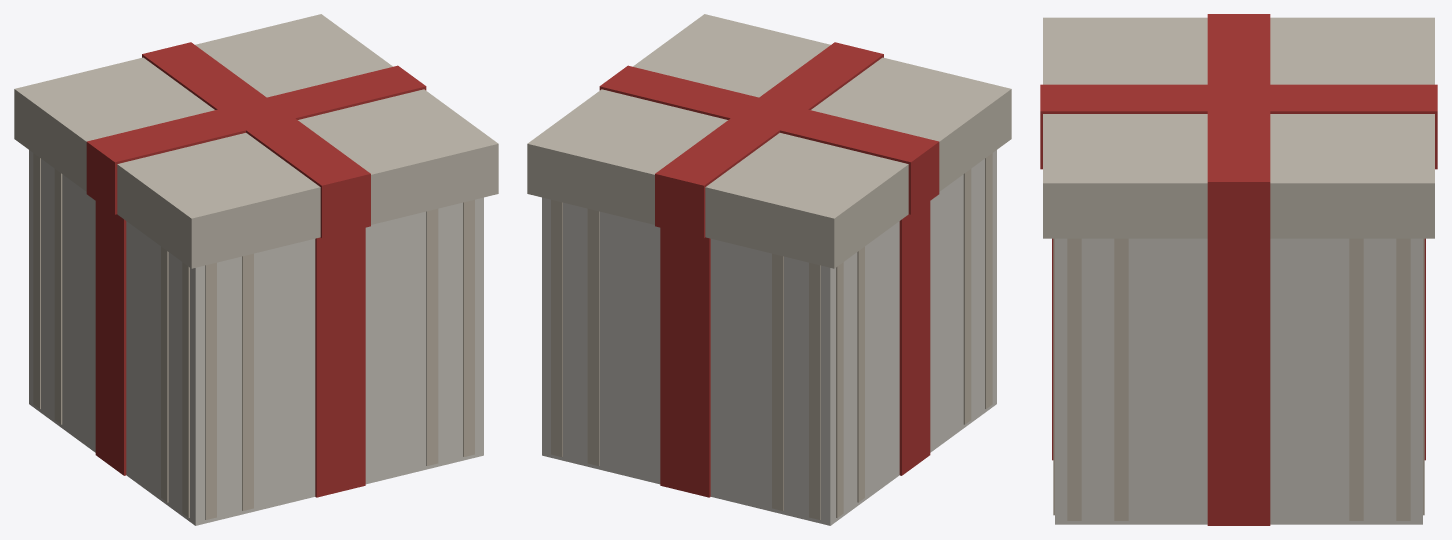
The model's file is gift-box-l.glb.
3 renders of one model, left to right at view 1: azimuth 30°, elevation 25°; view 2: azimuth 150°, elevation 25°; view 3: azimuth 270°, elevation 25°, orthographic. The views are drawn at different scales.
Parts seen in each view (by area): view 1: gift-box-l; view 2: gift-box-l; view 3: gift-box-l.
Boxes of the visible parts, left/top/right/bottom form: gift-box-l: left=14, top=14, right=498, bottom=525; gift-box-l: left=527, top=14, right=1011, bottom=525; gift-box-l: left=1040, top=14, right=1437, bottom=525.
Size of the model in its own units: 0.832 by 0.806 by 0.832.
